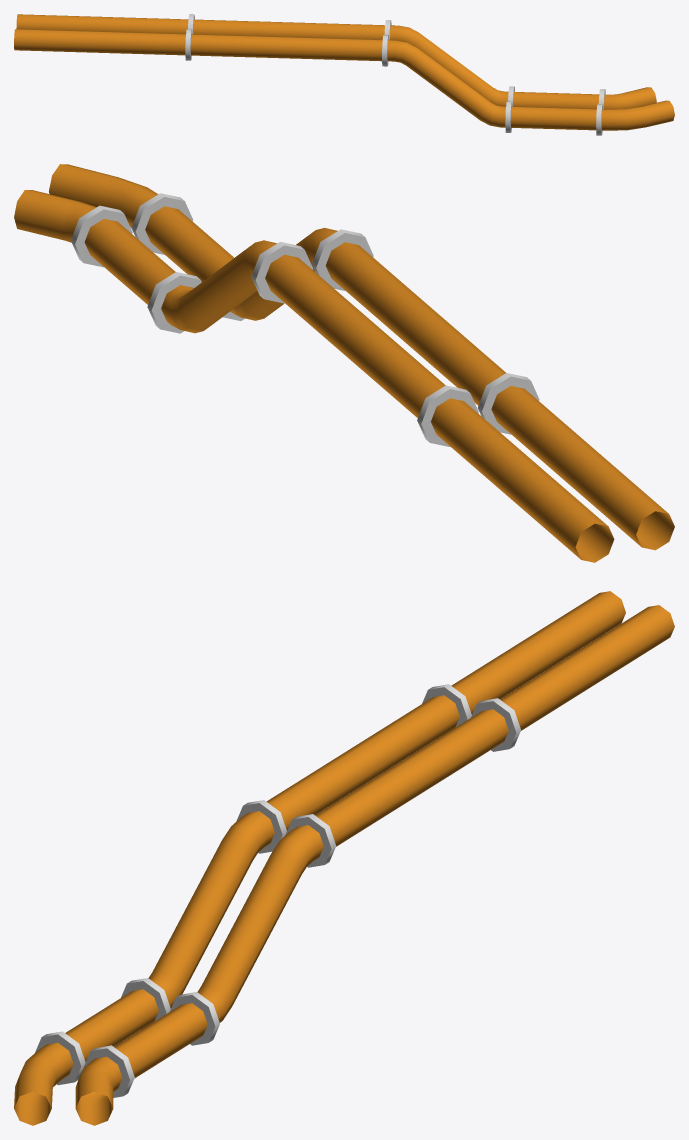
The model's file is SM_H_Building_Tide_WaterMaintain_02a_ATLAS.fbx.
The picture shows the model from 3 angles, top to bottom: view 1: azimuth 30°, elevation 25°; view 2: azimuth 150°, elevation 25°; view 3: azimuth 270°, elevation 25°; orthographic projection. The views are drawn at different scales.
Parts seen in each view (by area): view 1: SM_H_Building_Tide_WaterMaintain_02a_ATLAS; view 2: SM_H_Building_Tide_WaterMaintain_02a_ATLAS; view 3: SM_H_Building_Tide_WaterMaintain_02a_ATLAS.
Boxes of the visible parts, bbox=[...] form: SM_H_Building_Tide_WaterMaintain_02a_ATLAS: bbox=[14, 14, 674, 135]; SM_H_Building_Tide_WaterMaintain_02a_ATLAS: bbox=[14, 164, 674, 562]; SM_H_Building_Tide_WaterMaintain_02a_ATLAS: bbox=[14, 591, 674, 1125].
Size of the model in its own units: 2049 by 1432 by 373.
